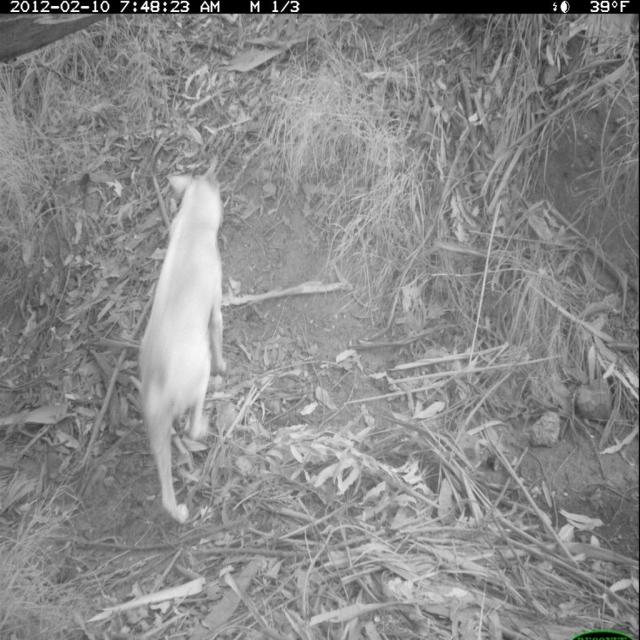dog: (130, 150, 237, 549)
